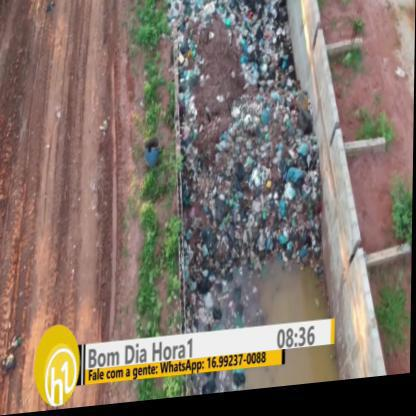agua: (266, 272, 321, 328)
lixo: (180, 0, 313, 280)
